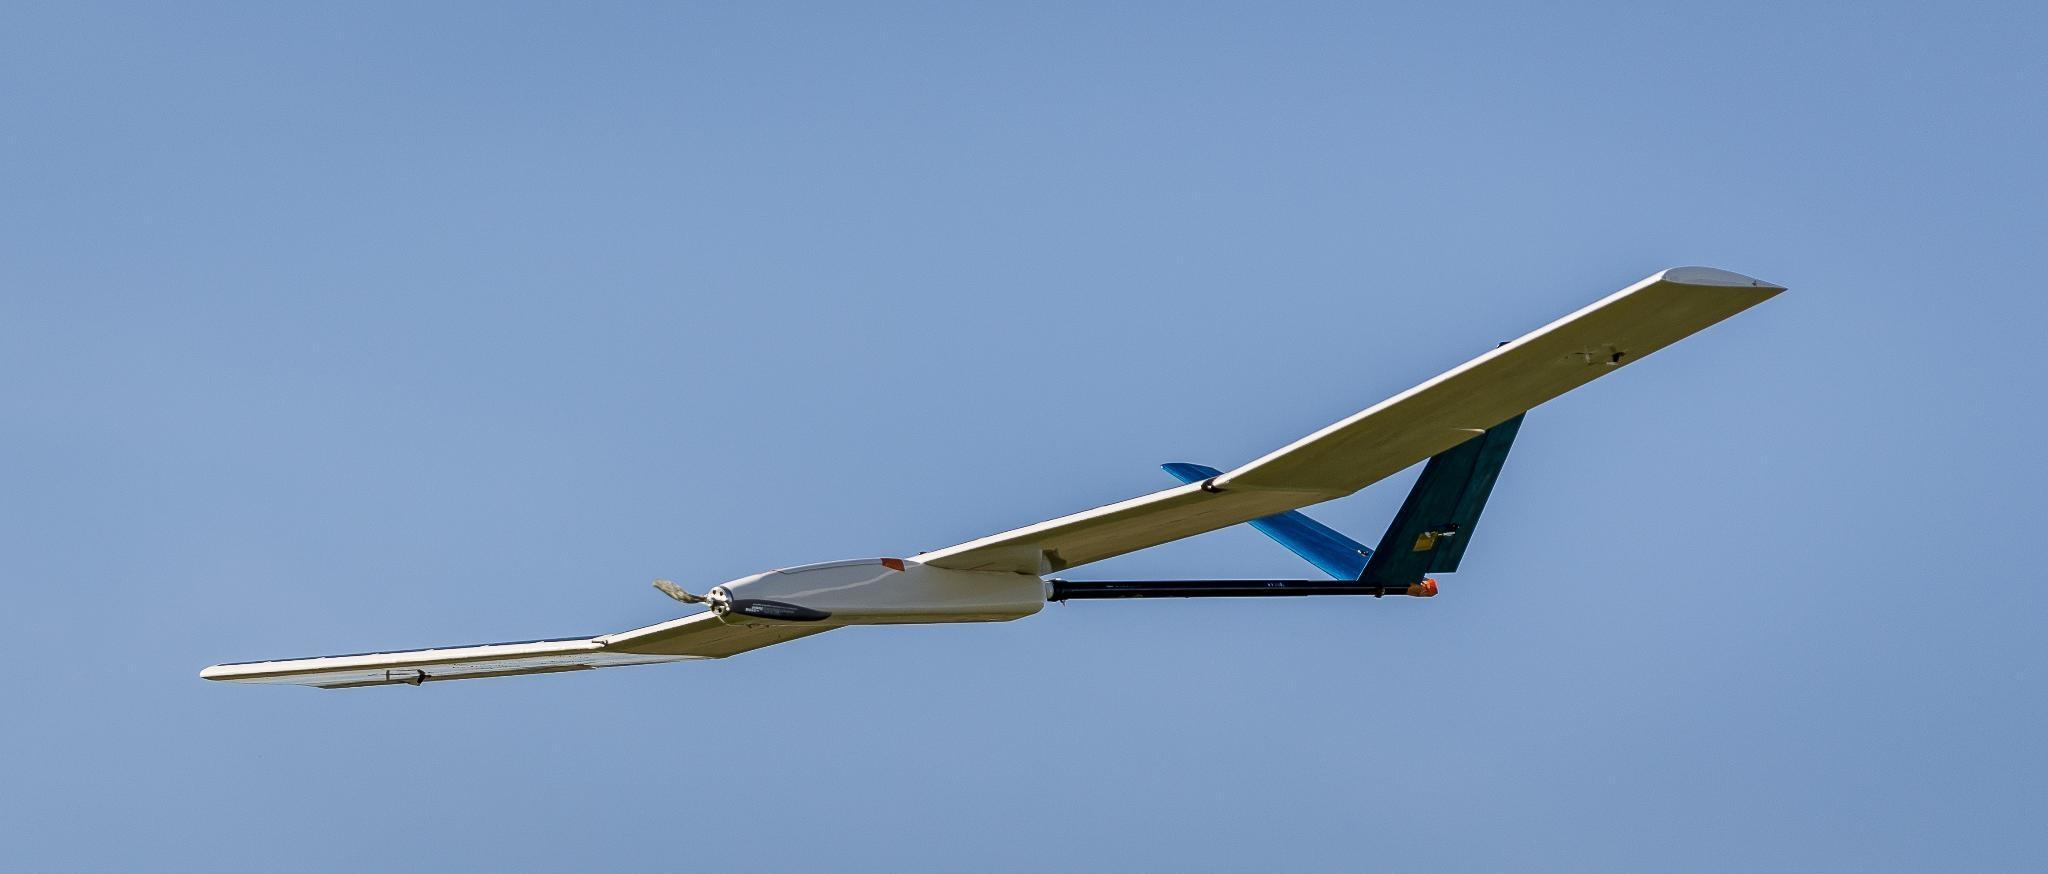Airplane: (153, 234, 1807, 765)
